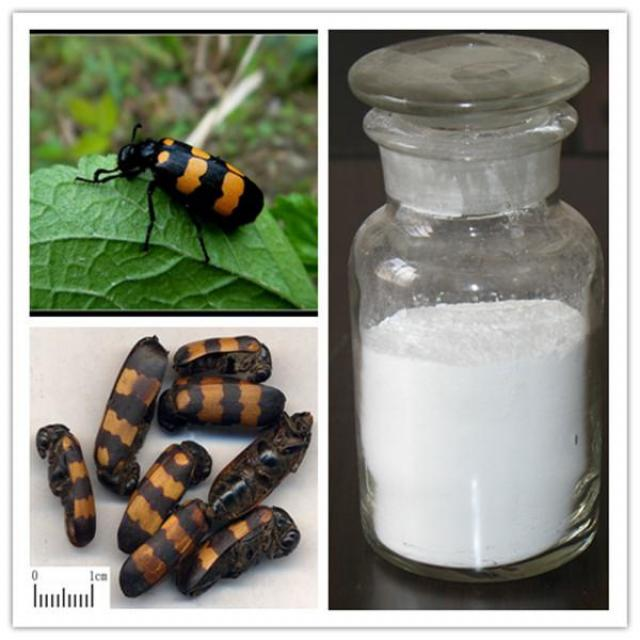BlisterBeetle-Adult-: (68, 119, 261, 266)
